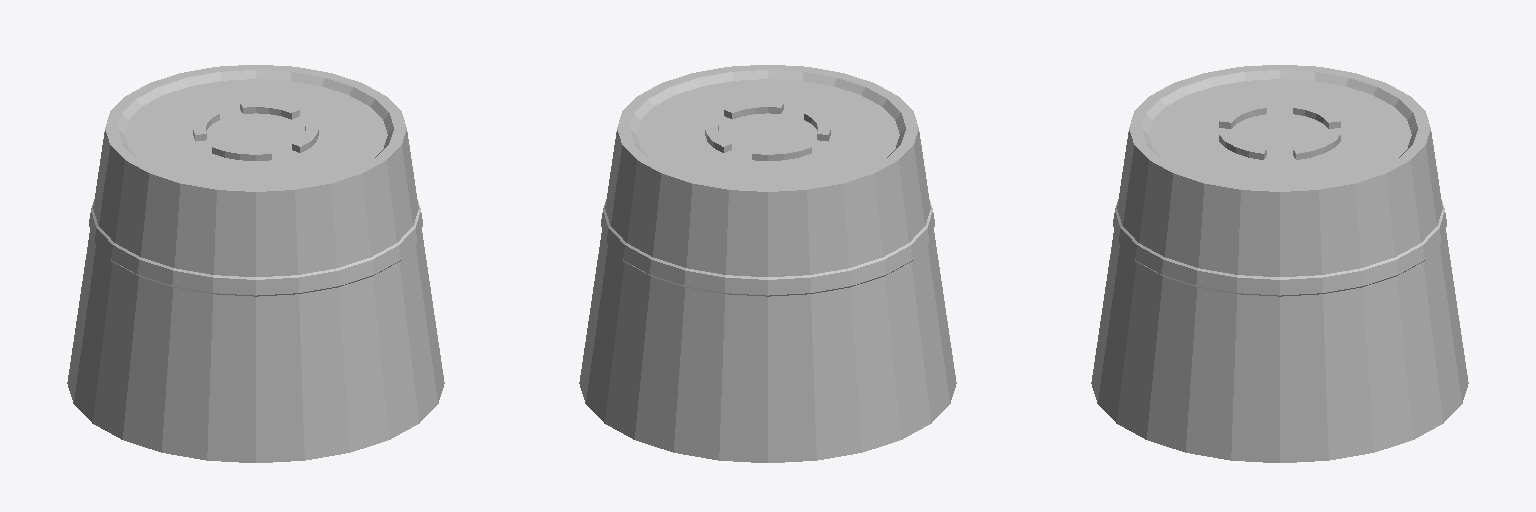
The model's file is Gemini_Service_A.obj.
3 views of the same model, side by side, from view 1: azimuth 30°, elevation 25°; view 2: azimuth 150°, elevation 25°; view 3: azimuth 270°, elevation 25° (orthographic).
Parts seen in each view (by area): view 1: Gemini_Service_A; view 2: Gemini_Service_A; view 3: Gemini_Service_A.
Boxes of the visible parts, x1,y1,x2,y2 form: Gemini_Service_A: [67, 65, 444, 462]; Gemini_Service_A: [579, 65, 956, 462]; Gemini_Service_A: [1091, 65, 1468, 462].
Bounding box in the file's own units: 1.88 × 1.4 × 1.88.